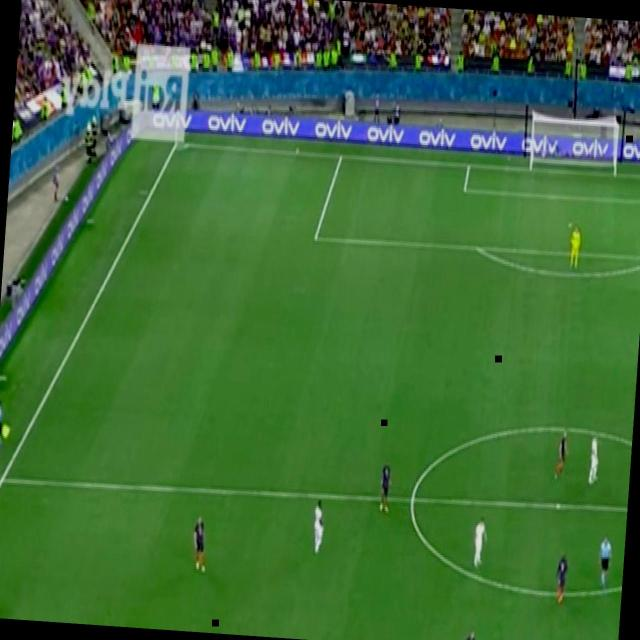player-white: (188, 510, 212, 580), (593, 531, 615, 600), (470, 513, 494, 573), (552, 546, 574, 611), (309, 493, 330, 560), (375, 454, 395, 520), (585, 428, 605, 490), (552, 424, 572, 481), (565, 220, 585, 272), (0, 395, 8, 465), (461, 625, 482, 640)
